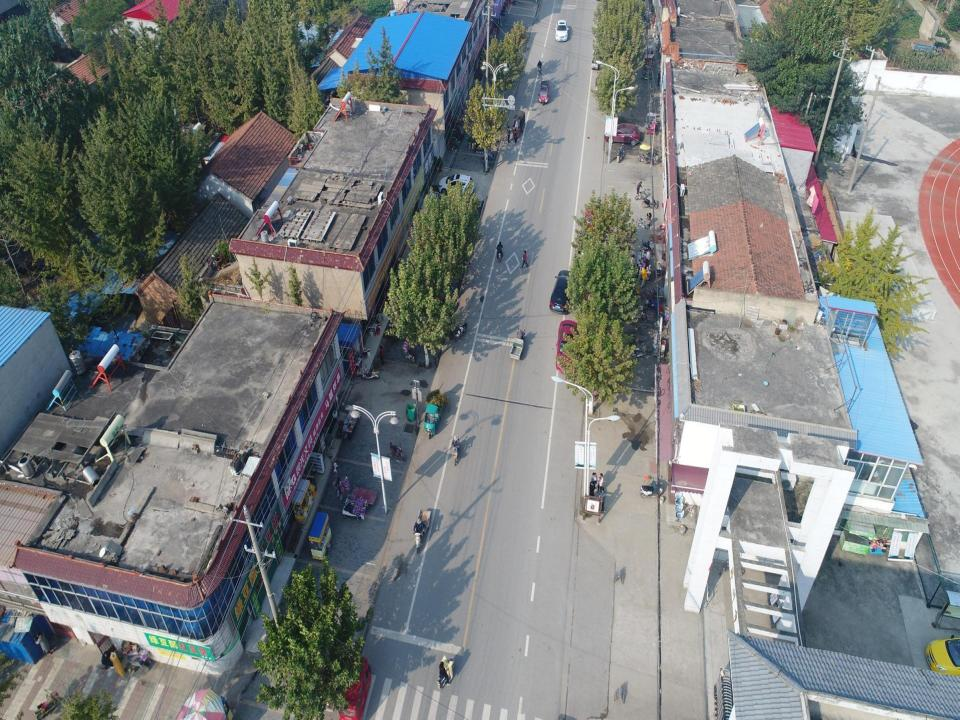car: (554, 319, 582, 376), (548, 267, 574, 315), (437, 172, 475, 197), (603, 122, 640, 146), (584, 207, 600, 235), (554, 18, 570, 43)
